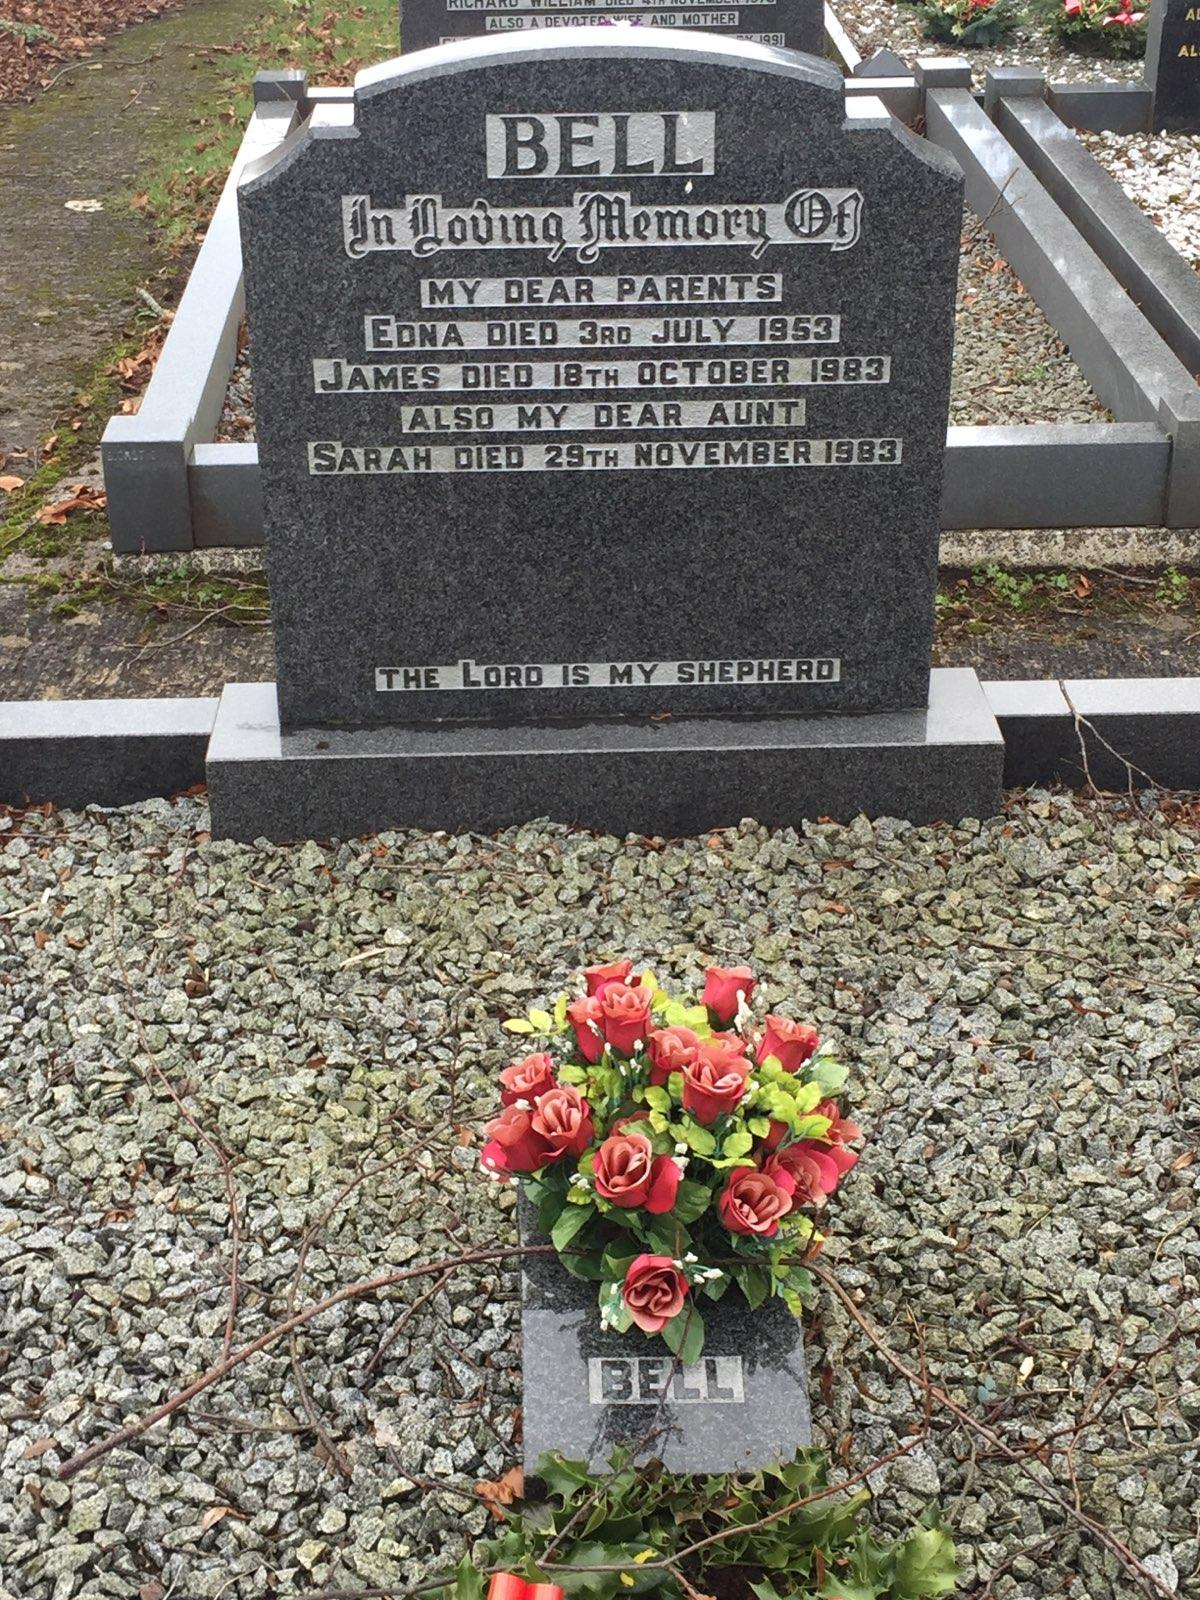upright: (127, 13, 1064, 858)
